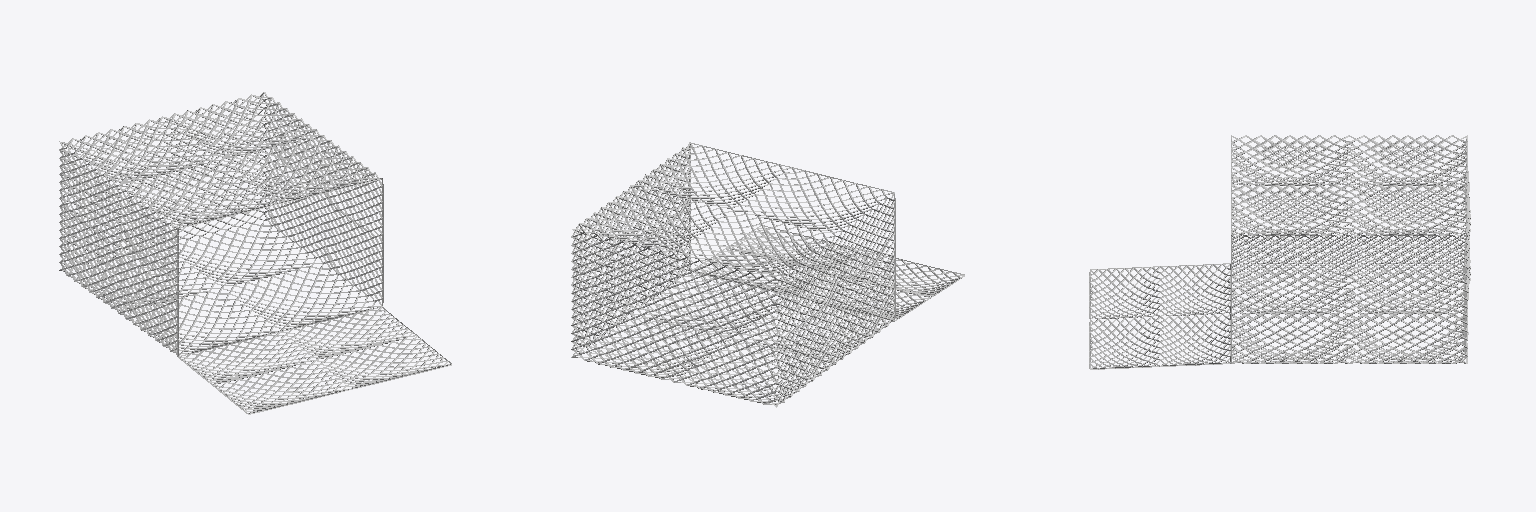
The model's file is ghost_blender_mkIII.obj.
The picture shows the model from 3 angles: view 1: azimuth 30°, elevation 25°; view 2: azimuth 150°, elevation 25°; view 3: azimuth 270°, elevation 25°; orthographic projection.
Parts seen in each view (by area): view 1: Cube; view 2: Cube; view 3: Cube.
Boxes of the visible parts, <box> form: Cube: <box>59,92,451,414</box>; Cube: <box>571,142,964,407</box>; Cube: <box>1089,135,1470,369</box>.
Bounding box in the file's own units: 2.06 × 1.33 × 3.24.